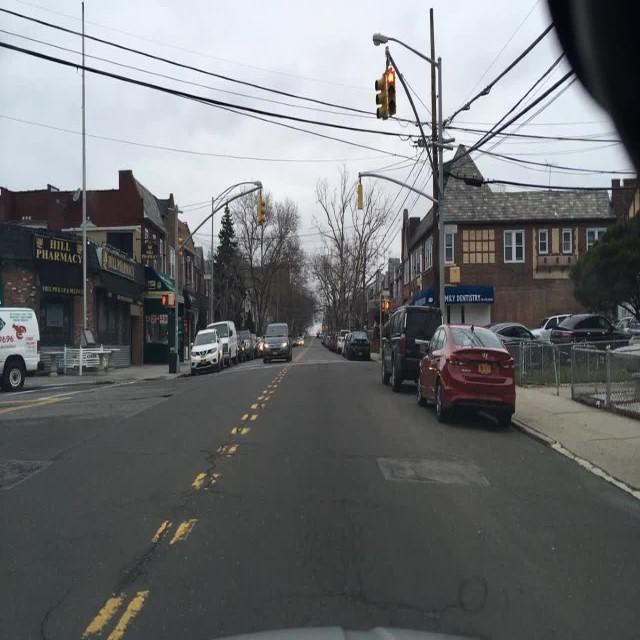normal: (383, 302, 533, 442)
